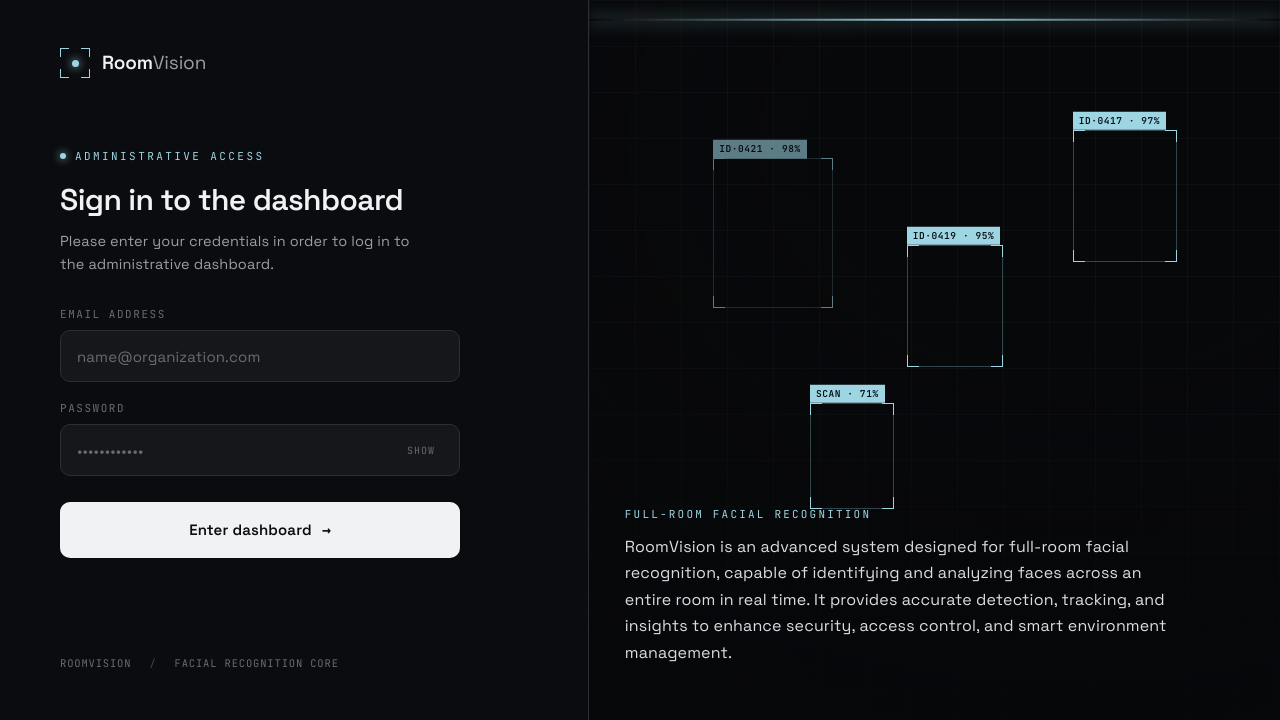
Scenario: Login Page › shows error when submitting empty form
Click the submit button at (260, 530), box x1=60 y1=502 x2=460 y2=558
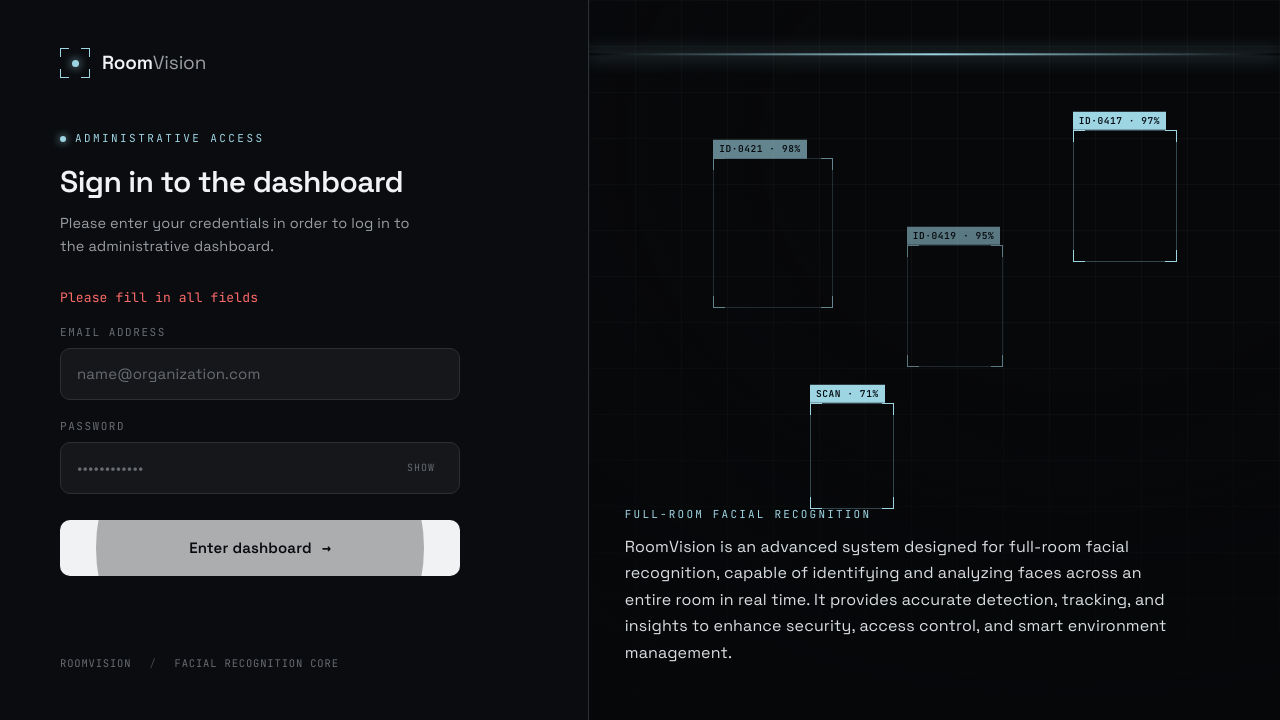
Expected: the text "Please fill in all fields" is shown, x1=60 y1=289 x2=258 y2=306
